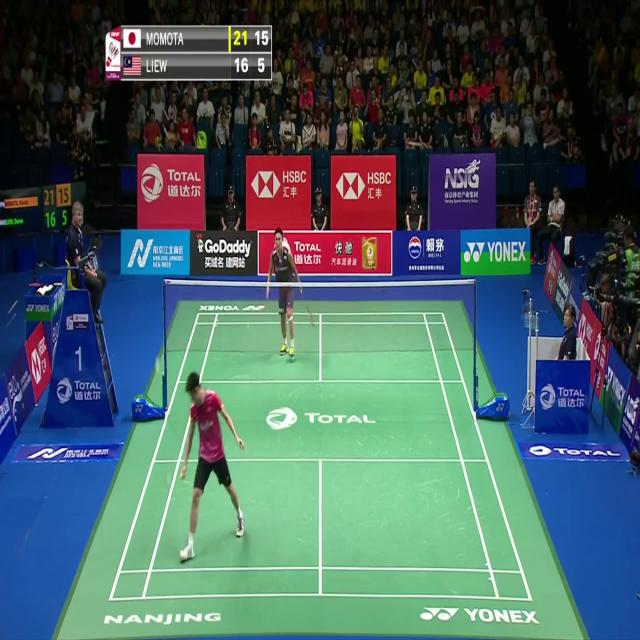Shuttlecock: (155, 361, 161, 373)
